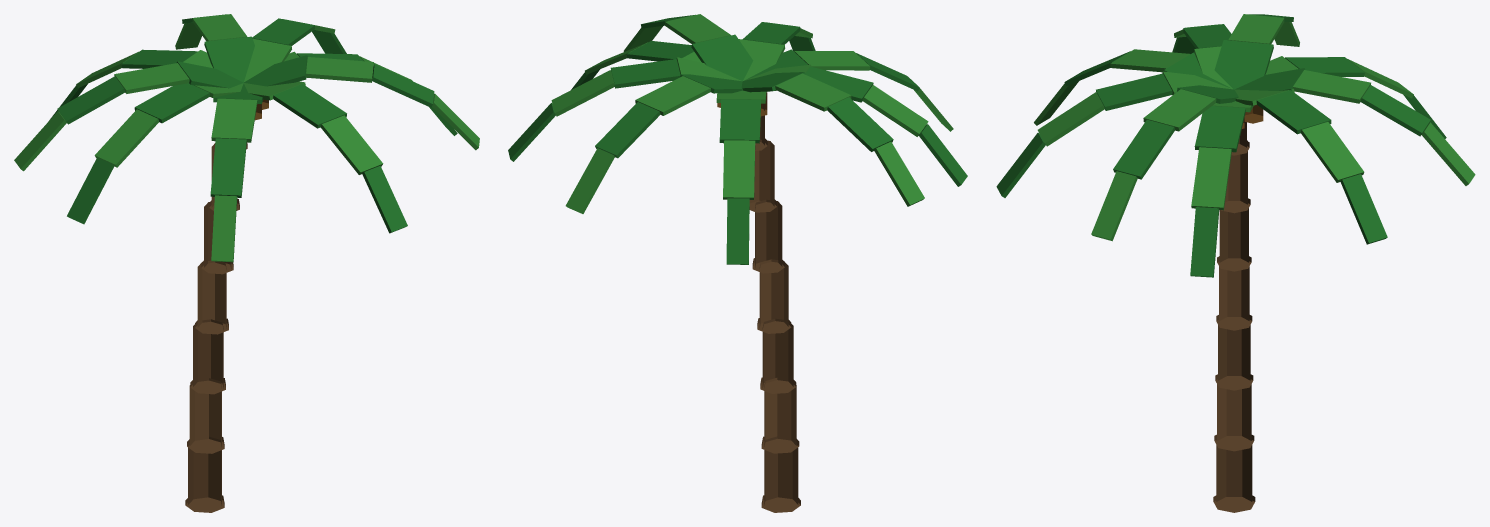
Rendered from palm_2.glb.
3 views of the same model, side by side, from view 1: azimuth 30°, elevation 25°; view 2: azimuth 150°, elevation 25°; view 3: azimuth 270°, elevation 25° (orthographic). The views are drawn at different scales.
Parts seen in each view (by area): view 1: palm_2; view 2: palm_2; view 3: palm_2.
Part boxes in pixels (left/top/right/bottom): palm_2: left=14, top=14, right=479, bottom=512; palm_2: left=508, top=14, right=967, bottom=512; palm_2: left=996, top=14, right=1475, bottom=512.
Bounding box in the file's own units: 5.19 × 5.4 × 5.15.
